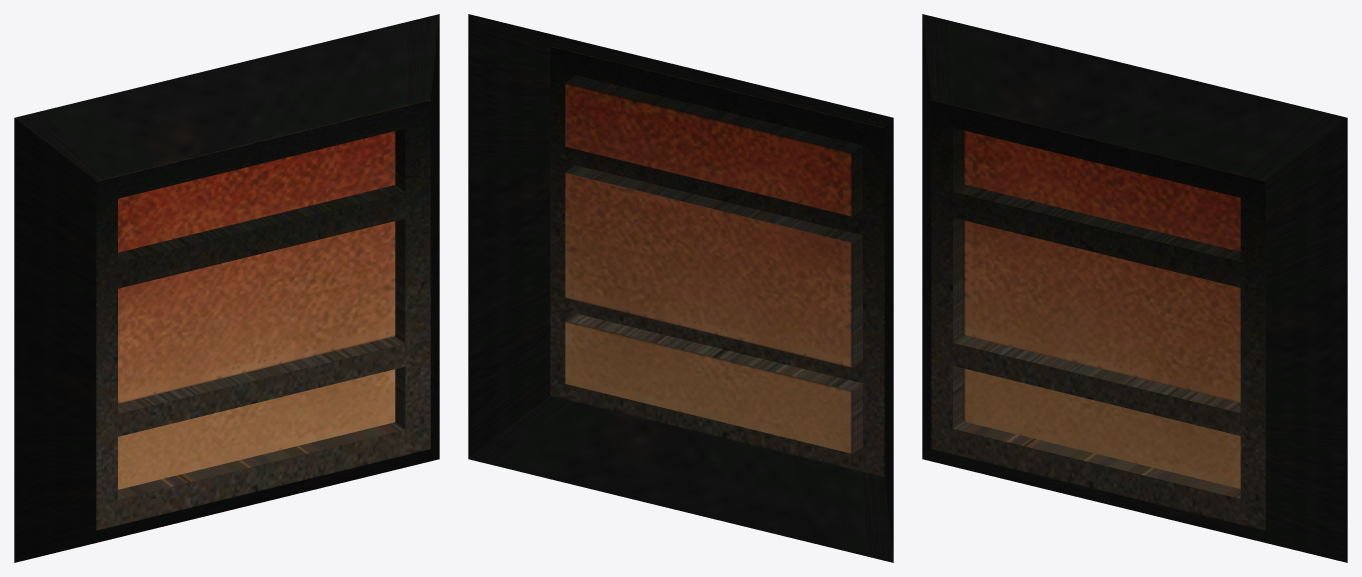
File: WallLight.glb
3 views of the same model, side by side, from view 1: azimuth 30°, elevation 25°; view 2: azimuth 150°, elevation 25°; view 3: azimuth 330°, elevation 25° (orthographic).
Parts seen in each view (by area): view 1: Cube; view 2: Cube; view 3: Cube.
Boxes of the visible parts, <box> form: Cube: <box>14,14,439,562</box>; Cube: <box>468,14,893,562</box>; Cube: <box>922,14,1347,562</box>.
Size of the model in its own units: 2.55 by 2.55 by 0.3779.
Materials: 1 (1 with a texture image).
